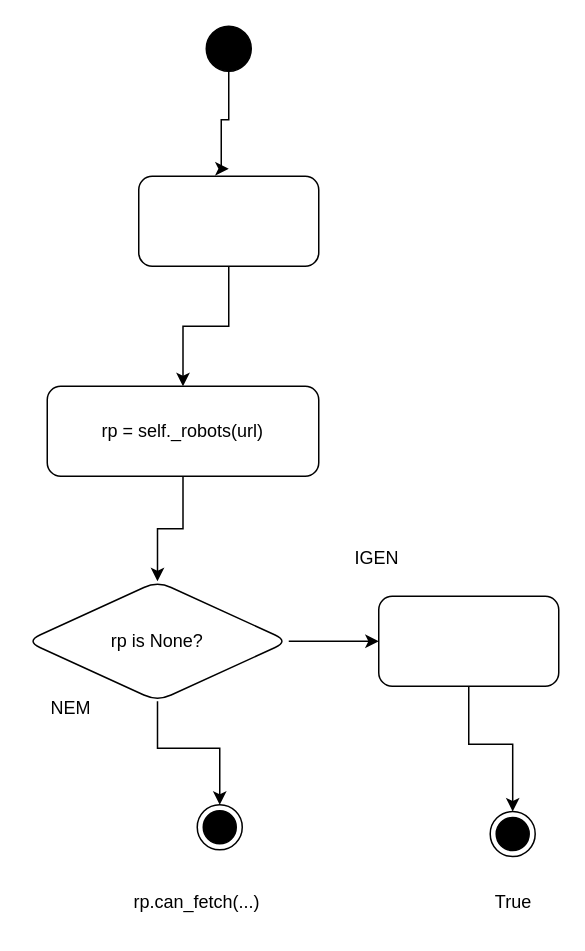
Image size: 585x951. Some labels were removed from this diagram. The shapes that lost their labels are listed below. From the top down, each one's centre as x and y in pixels, then its label:
pixel 228 220: Bemenet: url (str)
pixel 468 640: return True
